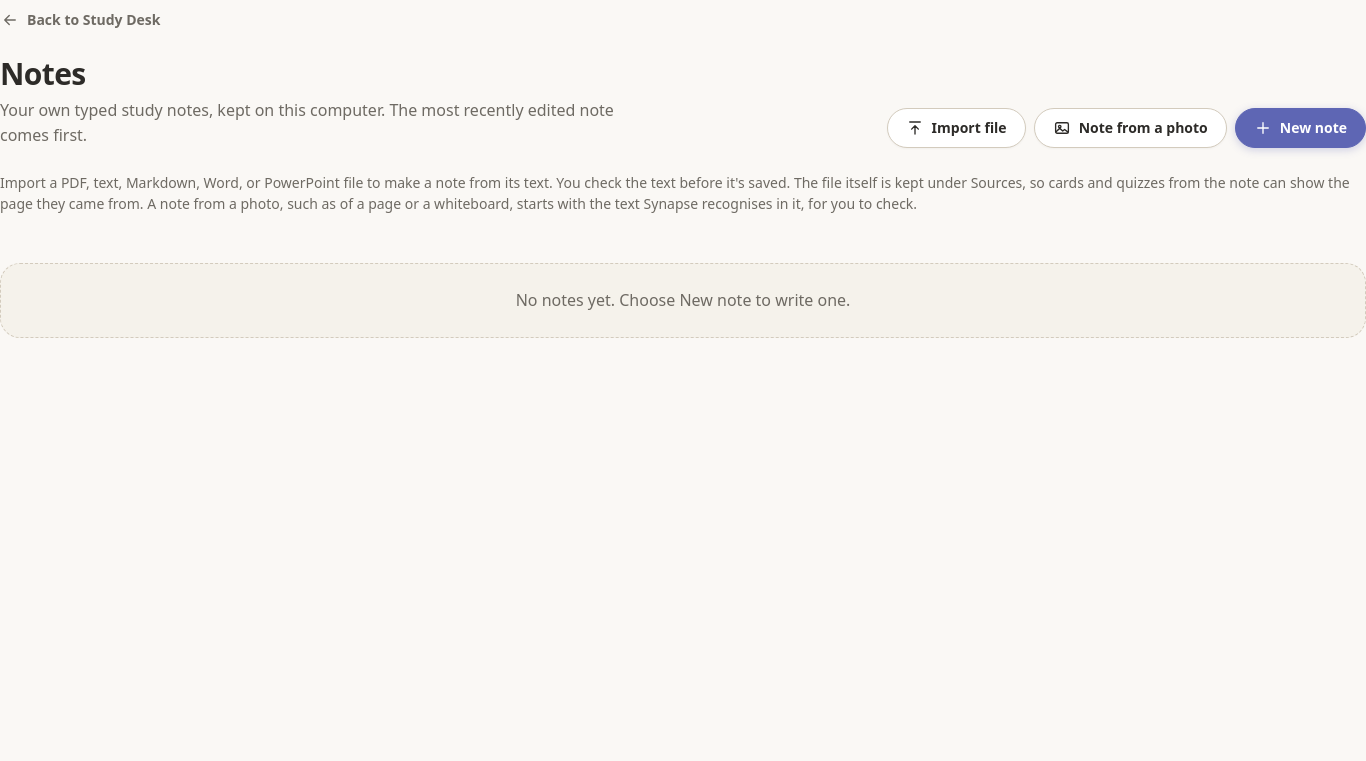
Test case: choosing the reader for a picture › makes a note from a photo with the reader chosen last
The width and height of the screenshot is (1366, 761).
Click the button "Note from a photo". click: (1130, 128)
box: [1034,108,1227,148]
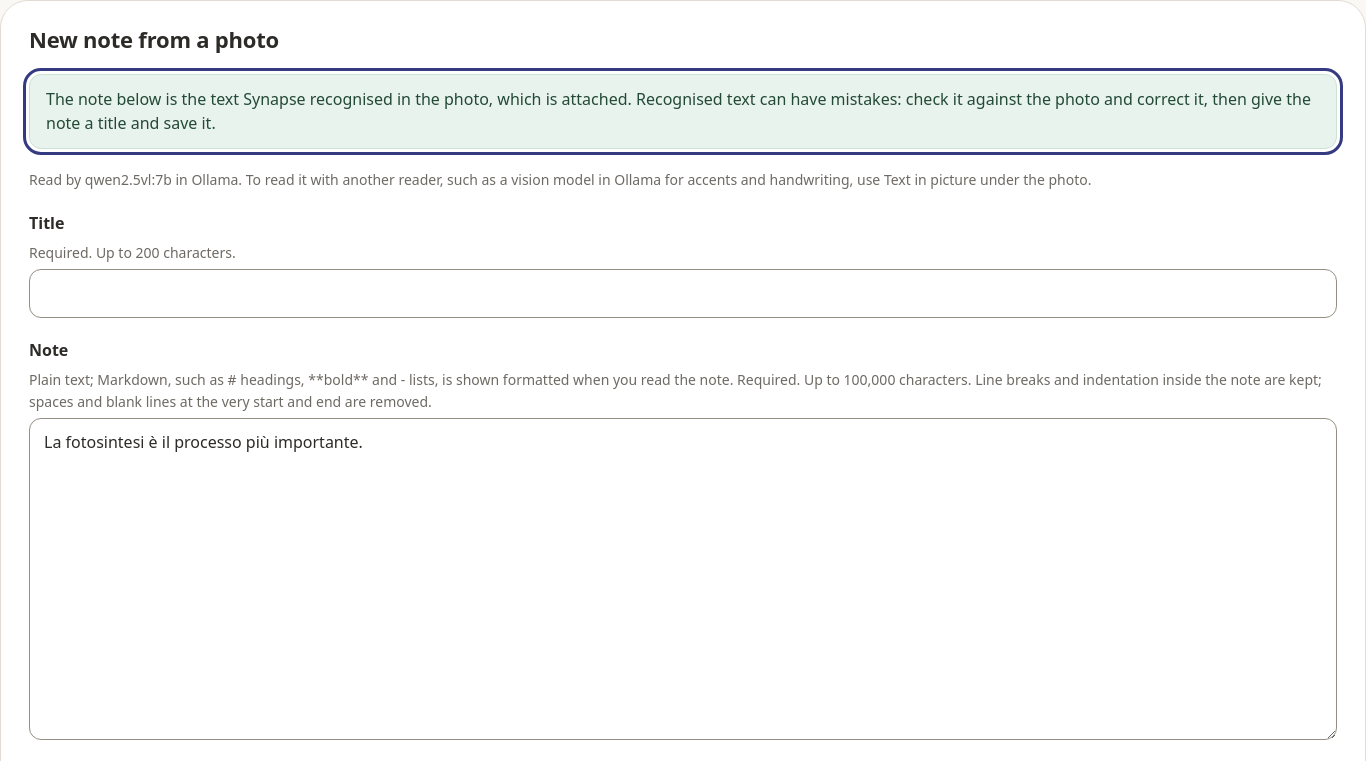
Expected: the text "The note below is the text Synapse recognised" is shown, [46,88,1311,134]
